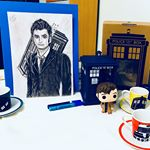cups: (119, 108, 150, 143), (120, 84, 150, 111)
